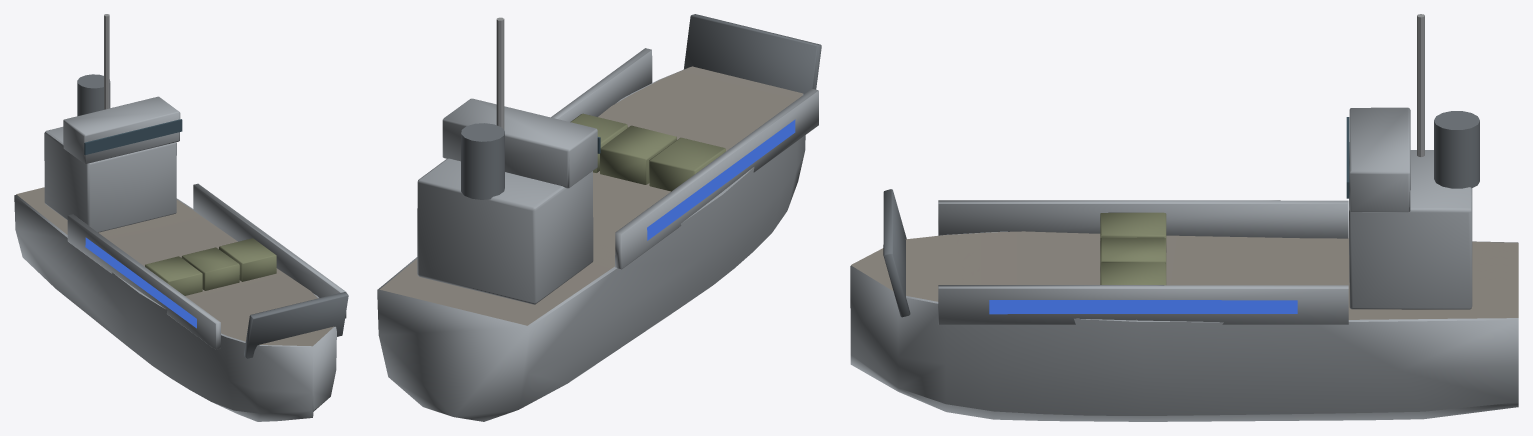
The model's file is transport_lod1.glb.
The picture shows the model from 3 angles, left to right: view 1: azimuth 30°, elevation 25°; view 2: azimuth 150°, elevation 25°; view 3: azimuth 270°, elevation 25°; orthographic projection. The views are drawn at different scales.
Visible parts, largest first — view 1: body; view 2: body; view 3: body.
Boxes of the visible parts, x1,y1,x2,y2 form: body: (14, 14, 348, 421); body: (377, 14, 821, 421); body: (850, 14, 1518, 421).
Size of the model in its own units: 4.2 by 8.4 by 13.01.
